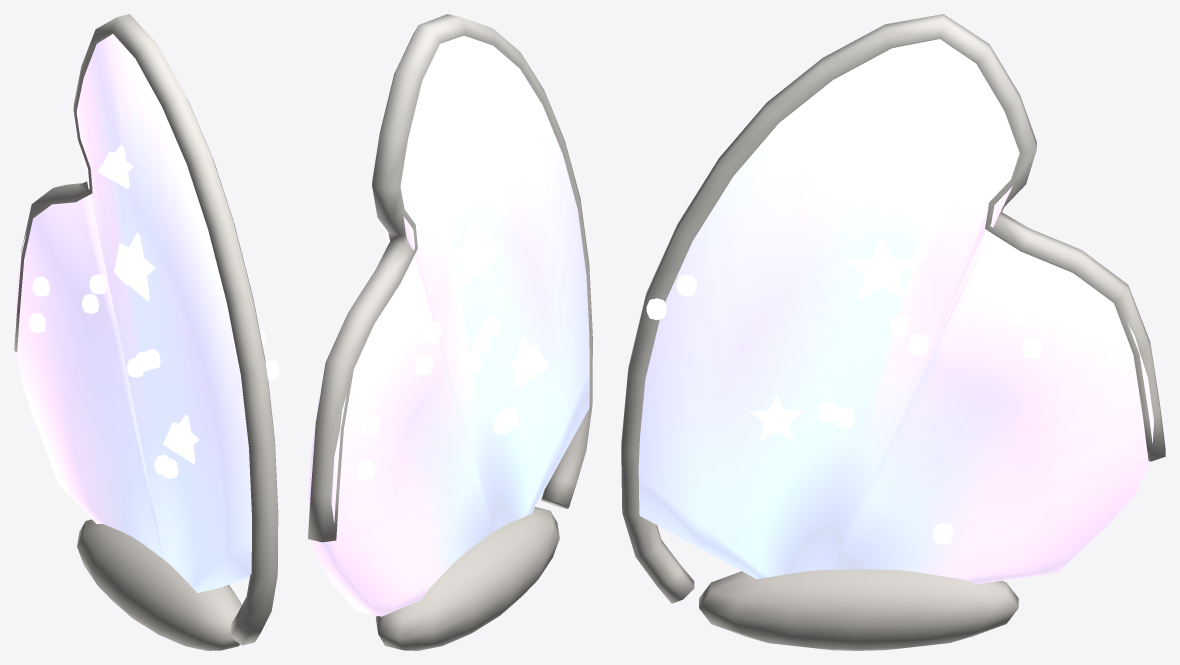
The model's file is part_nebula_fin.glb.
The picture shows the model from 3 angles, left to right: view 1: azimuth 30°, elevation 25°; view 2: azimuth 150°, elevation 25°; view 3: azimuth 270°, elevation 25°; orthographic projection. The views are drawn at different scales.
Visible parts, largest first — view 1: flap.004_painted_mesh; view 2: flap.004_painted_mesh; view 3: flap.004_painted_mesh.
Part boxes in pixels (x1,y1,x2,y2): flap.004_painted_mesh: (14, 14, 279, 650); flap.004_painted_mesh: (308, 14, 592, 650); flap.004_painted_mesh: (621, 14, 1165, 650).
Bounding box in the file's own units: 0.18 × 1.18 × 0.9298.
